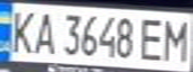3: (57, 10, 84, 57)
4: (96, 12, 121, 59)
6: (78, 11, 100, 57)
8: (115, 13, 139, 60)
A: (30, 8, 57, 56)
E: (136, 15, 169, 62)
K: (3, 6, 39, 55)
M: (160, 16, 193, 63)
